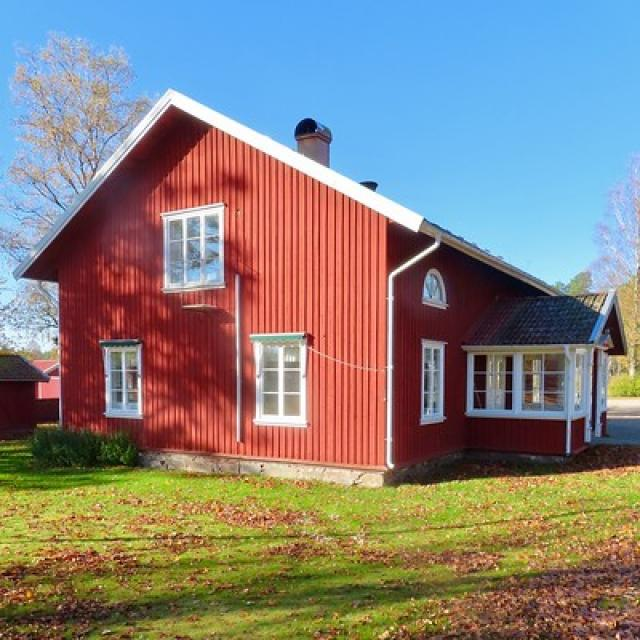Normal_building: (11, 86, 632, 493)
